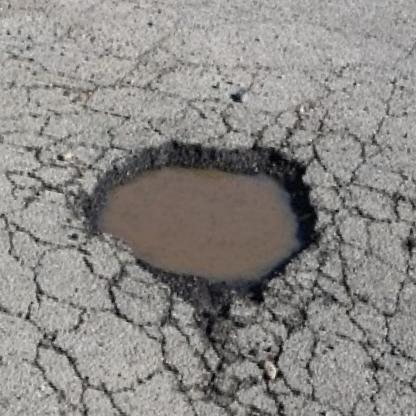pothole: (74, 109, 338, 306)
